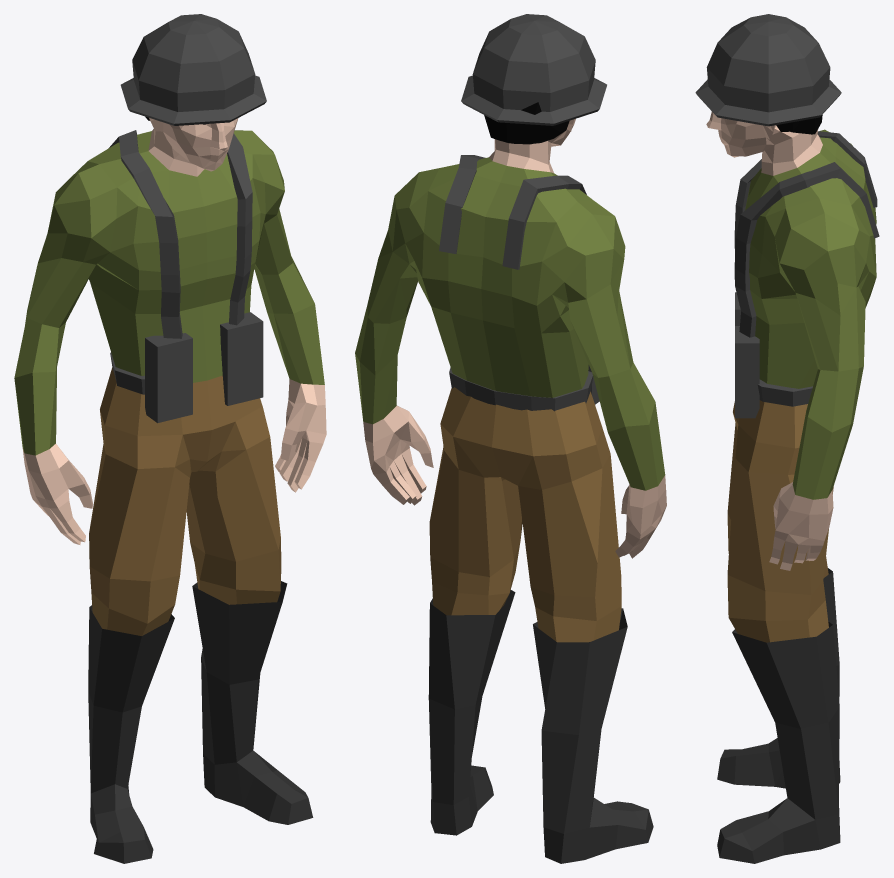
File: Human_Soldier_2.FBX
The picture shows the model from 3 angles, left to right: view 1: azimuth 30°, elevation 25°; view 2: azimuth 150°, elevation 25°; view 3: azimuth 270°, elevation 25°; orthographic projection.
Visible parts, largest first — view 1: Human_Soldier_2; view 2: Human_Soldier_2; view 3: Human_Soldier_2.
Boxes of the visible parts, x1,y1,x2,y2 form: Human_Soldier_2: (14, 14, 326, 863); Human_Soldier_2: (355, 14, 666, 863); Human_Soldier_2: (695, 14, 879, 863).
Bounding box in the file's own units: 0.613 × 1.59 × 0.3368.
1 material, 1 textured.
